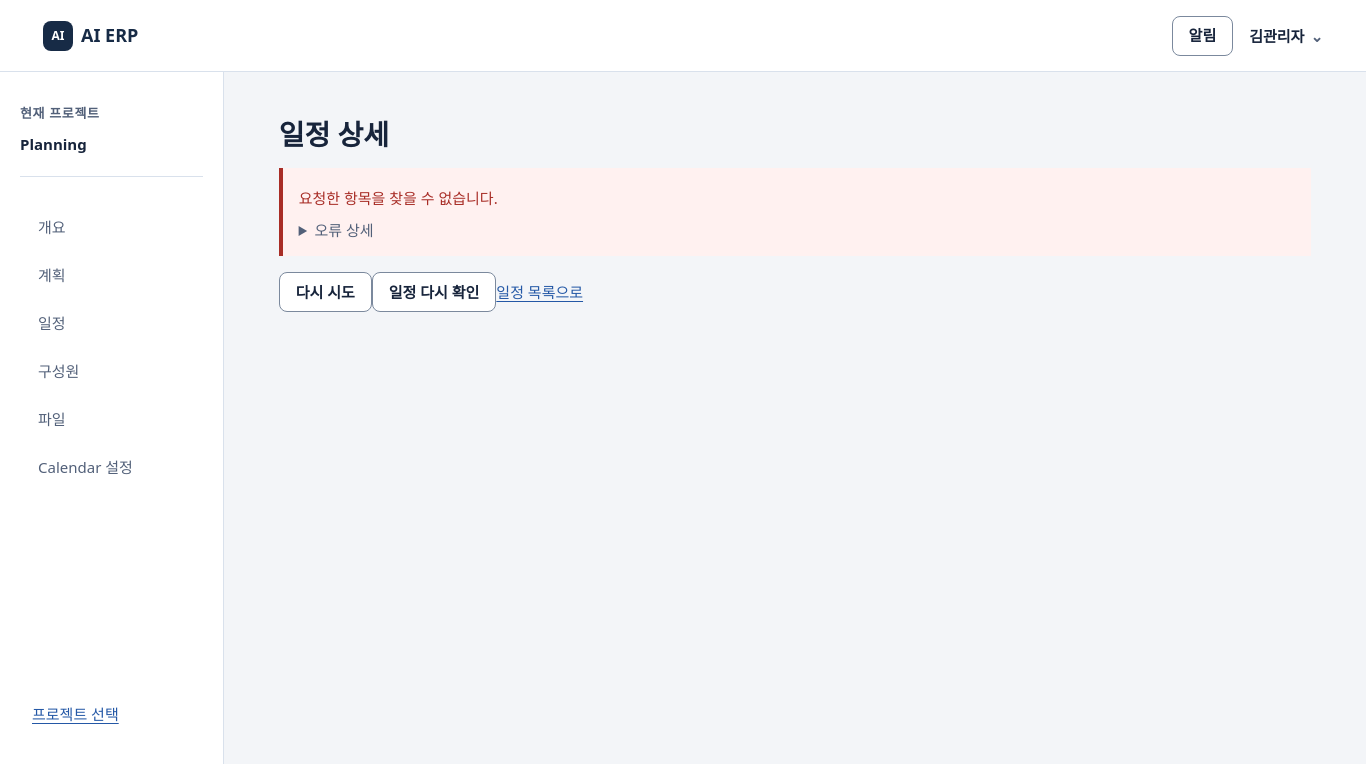
schedule 404 provides schedule-list recovery without claiming project deletion
Expected: the message shows "찾을 수 없", x1=299 y1=188 x2=498 y2=208
Click the link "일정 목록으로": (540,292) x1=496 y1=282 x2=583 y2=302
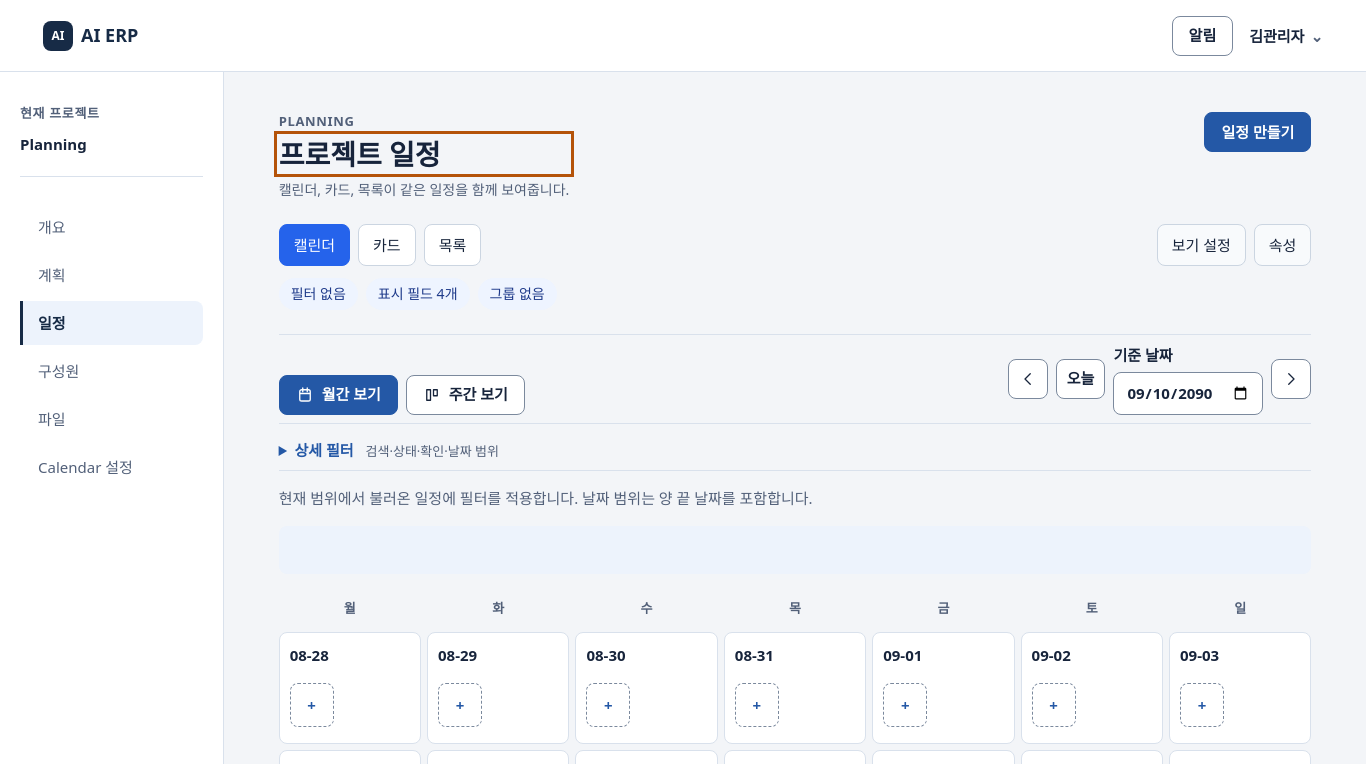
Expected: the heading "프로젝트 일정" is shown, x1=279 y1=134 x2=440 y2=172
